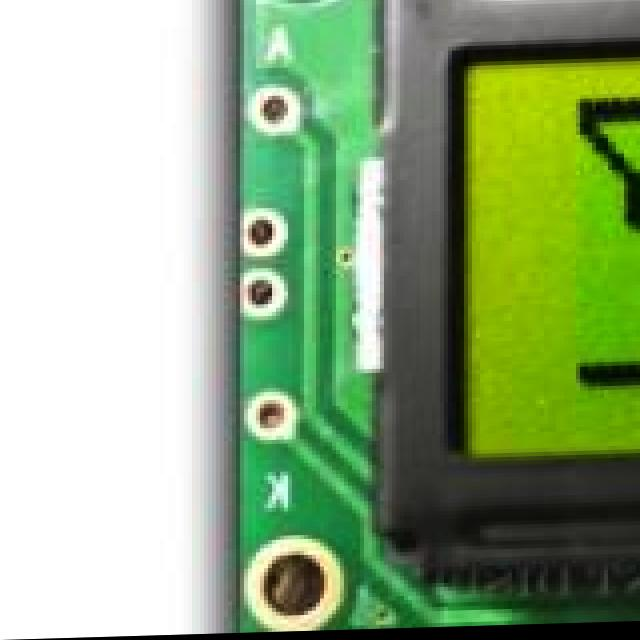display: (352, 0, 640, 588)
